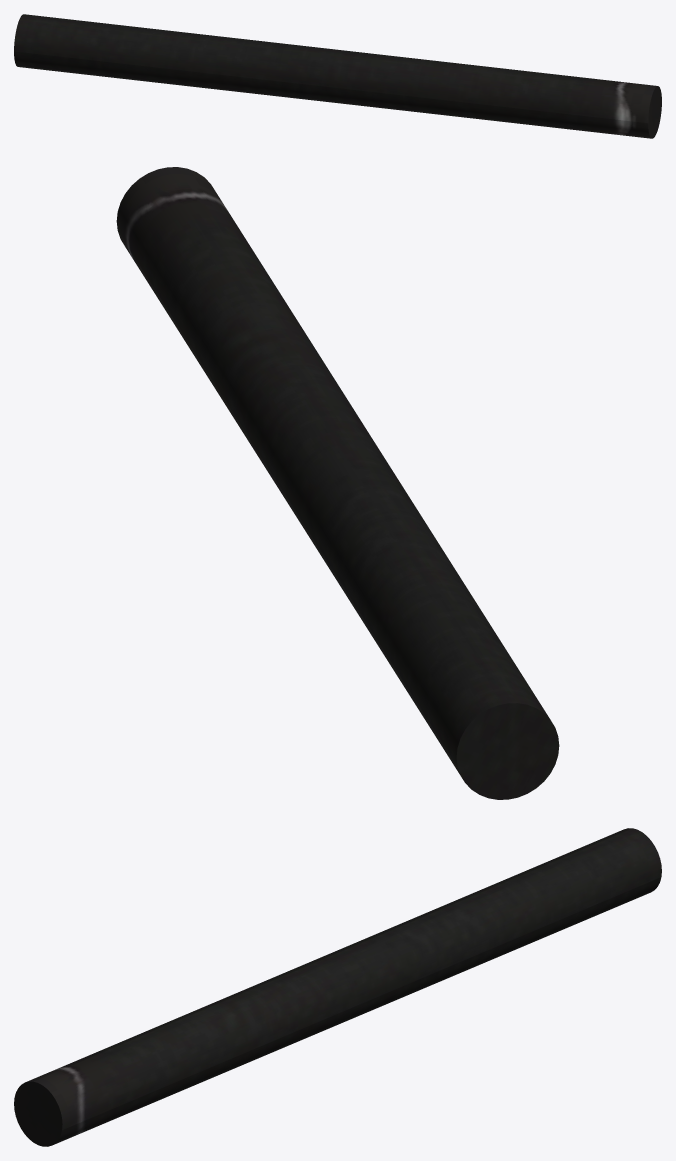
The model's file is rear_support__side_link_1.glb.
3 views of the same model, one above another, from view 1: azimuth 30°, elevation 25°; view 2: azimuth 150°, elevation 25°; view 3: azimuth 270°, elevation 25° (orthographic). The views are drawn at different scales.
Parts seen in each view (by area): view 1: world; view 2: world; view 3: world.
Part boxes in pixels (x1=…): world: x1=14, y1=14, x2=661, y2=138; world: x1=116, y1=167, x2=559, y2=799; world: x1=14, y1=828, x2=661, y2=1146.
Size of the model in its own units: 0.2454 by 0.026 by 0.2454.
Materials: 1 (1 with a texture image).
